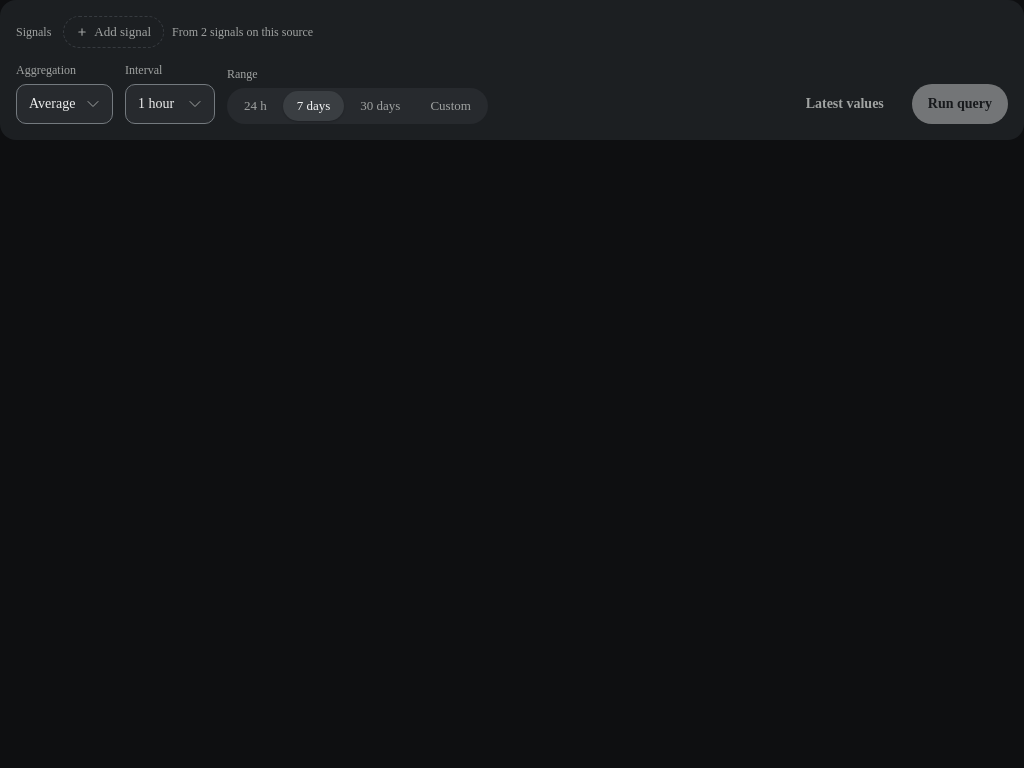
Test: SignalsTab › says so when a run returns no rows
Click the button "Add signal". click: click(114, 32)
box: [63,16,164,48]
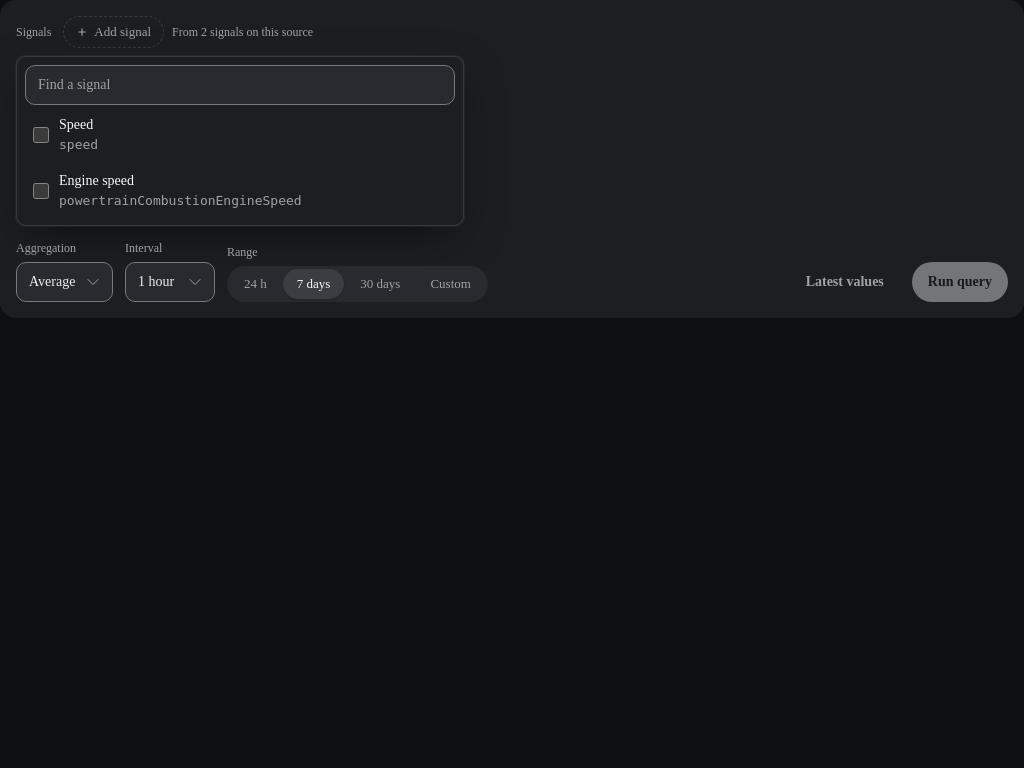
Click the checkbox labelled "Speed". click: click(41, 135)
box: [33,127,49,143]
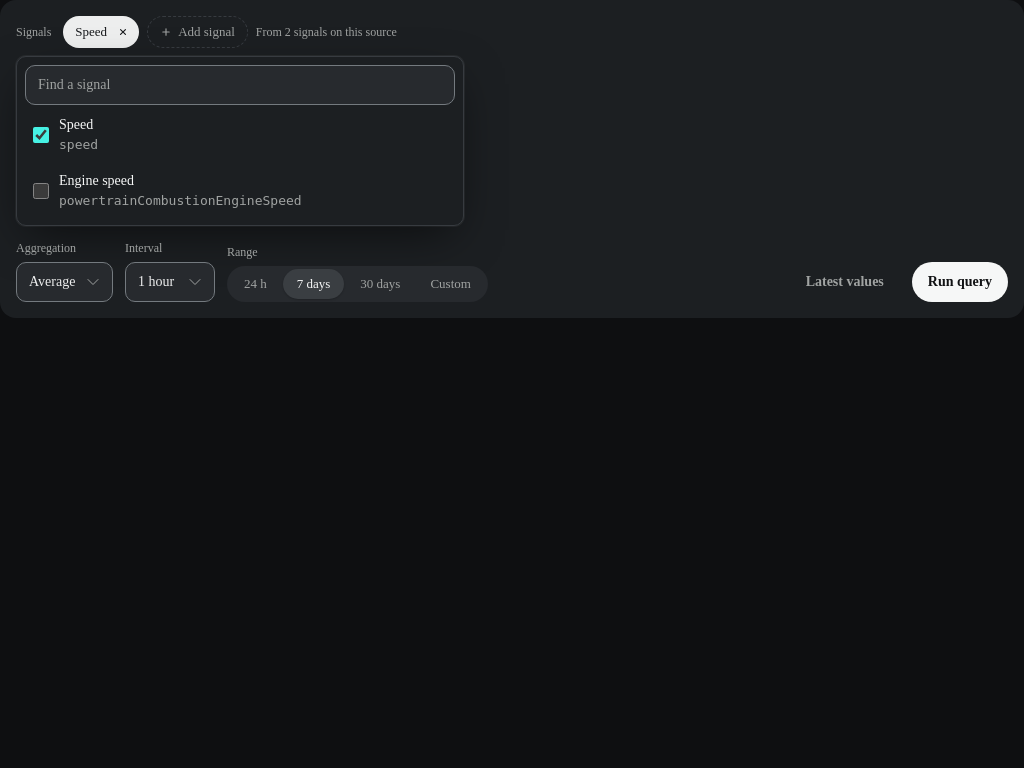
Click the button "Run query". click: click(960, 282)
box: [912,262,1008,302]
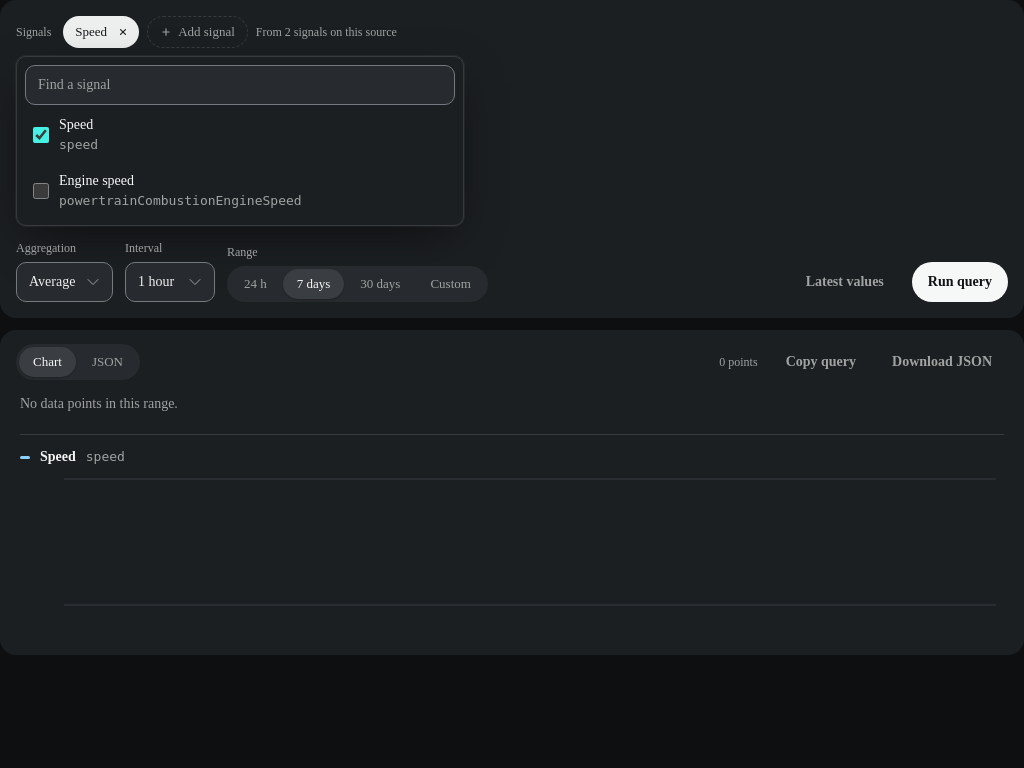
Result: the text "No data points in this range." is shown at [20,396,178,411]
